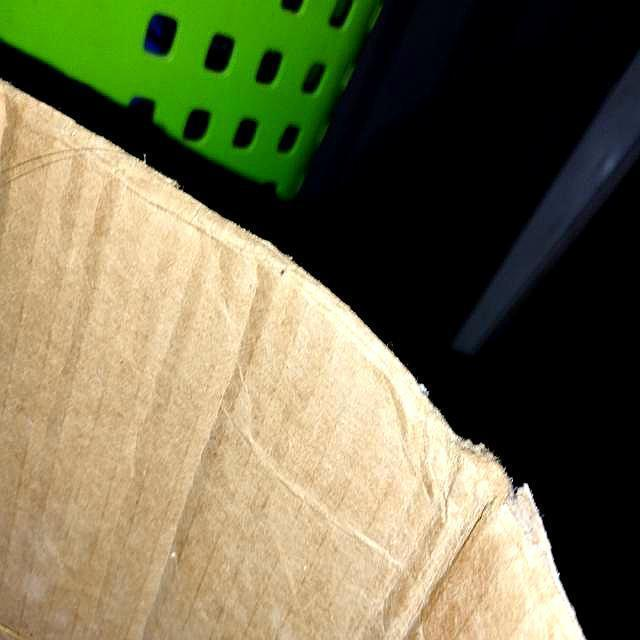Biodegradable: (1, 81, 585, 640)
